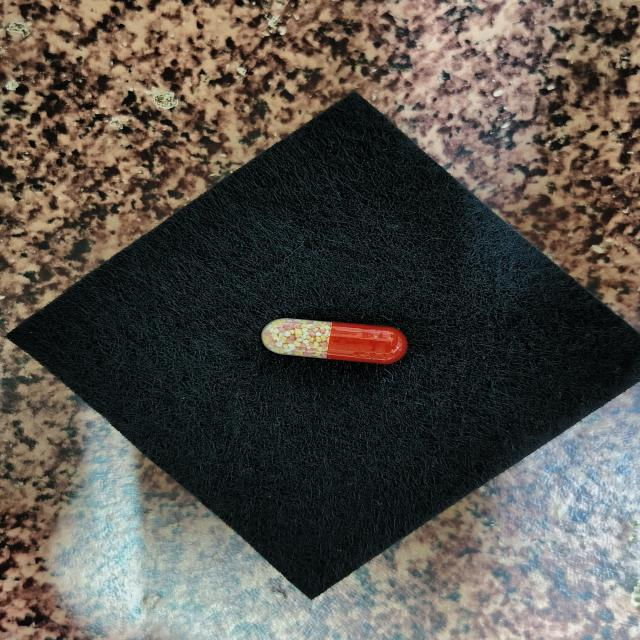Intact Capsule: (262, 318, 407, 364)
